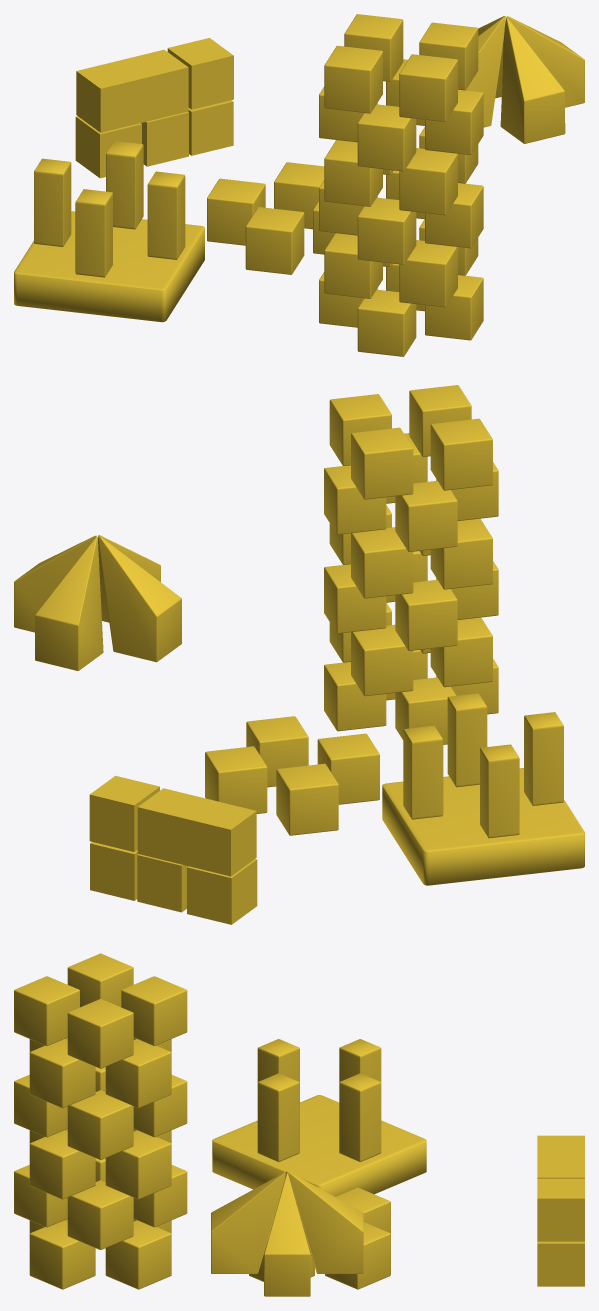
3 views of the same model, one above another, from view 1: azimuth 30°, elevation 25°; view 2: azimuth 150°, elevation 25°; view 3: azimuth 270°, elevation 25° (orthographic). The views are drawn at different scales.
Visible parts, largest first — view 1: Cube.011, Cube.048, Cube.007, Cube.331, Cube.033, Cube.034, Cube.021, Cube.013, Cube.029, Cube.025, Cube.017, Cube.002 (+23 smaller); view 2: Cube.048, Cube.011, Cube.007, Cube.031, Cube.034, Cube.332, Cube.023, Cube.030, Cube.022, Cube.015, Cube.001, Cube.004 (+21 smaller); view 3: Cube.048, Cube.011, Cube.032, Cube.024, Cube.016, Cube.031, Cube.002, Cube.001, Cube.033, Cube.019, Cube.027, Cube.028 (+15 smaller).
Part boxes in pixels (x1=…): Cube.011: x1=14, y1=211, x2=204, y2=322; Cube.048: x1=466, y1=16, x2=584, y2=143; Cube.007: x1=76, y1=49, x2=188, y2=132; Cube.331: x1=245, y1=207, x2=304, y2=274; Cube.033: x1=399, y1=54, x2=457, y2=121; Cube.034: x1=324, y1=45, x2=382, y2=113; Cube.021: x1=357, y1=197, x2=416, y2=264; Cube.013: x1=357, y1=289, x2=416, y2=356; Cube.029: x1=357, y1=104, x2=416, y2=171; Cube.025: x1=399, y1=148, x2=457, y2=215; Cube.017: x1=399, y1=240, x2=457, y2=307; Cube.002: x1=147, y1=171, x2=185, y2=259; Cube.048: x1=14, y1=535, x2=181, y2=670; Cube.011: x1=382, y1=768, x2=584, y2=885; Cube.007: x1=137, y1=788, x2=256, y2=876; Cube.031: x1=351, y1=427, x2=413, y2=499; Cube.034: x1=430, y1=418, x2=492, y2=490; Cube.332: x1=276, y1=763, x2=338, y2=835; Cube.023: x1=351, y1=527, x2=413, y2=598; Cube.030: x1=395, y1=480, x2=457, y2=551; Cube.022: x1=395, y1=579, x2=457, y2=650; Cube.015: x1=351, y1=624, x2=413, y2=696; Cube.001: x1=403, y1=725, x2=443, y2=819; Cube.004: x1=480, y1=744, x2=519, y2=838; Cube.048: x1=211, y1=1171, x2=363, y2=1296; Cube.011: x1=212, y1=1095, x2=426, y2=1196; Cube.032: x1=67, y1=999, x2=133, y2=1068; Cube.024: x1=67, y1=1090, x2=133, y2=1159; Cube.016: x1=67, y1=1180, x2=133, y2=1249; Cube.031: x1=121, y1=976, x2=187, y2=1045; Cube.002: x1=257, y1=1073, x2=299, y2=1161; Cube.001: x1=339, y1=1073, x2=381, y2=1161; Cube.033: x1=14, y1=976, x2=79, y2=1045; Cube.019: x1=105, y1=1130, x2=171, y2=1199; Cube.027: x1=105, y1=1039, x2=171, y2=1108; Cube.028: x1=29, y1=1039, x2=95, y2=1108.
Size of what is drawn, in the model's own units: 22.32 by 10.88 by 20.8.
